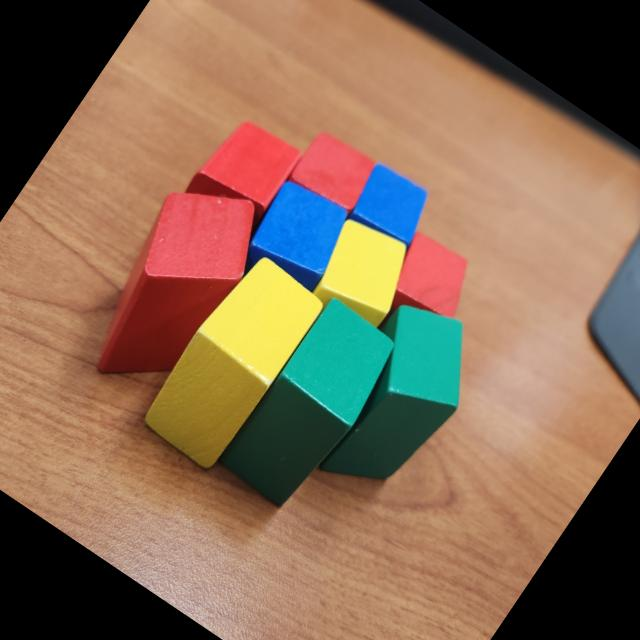blue: (225, 172, 362, 316), (338, 158, 442, 259)
green: (292, 283, 502, 518), (213, 292, 409, 519)
red: (61, 160, 282, 412), (180, 107, 306, 239), (370, 226, 486, 343), (284, 125, 384, 222)
yellow: (136, 247, 330, 473), (298, 210, 426, 338)
